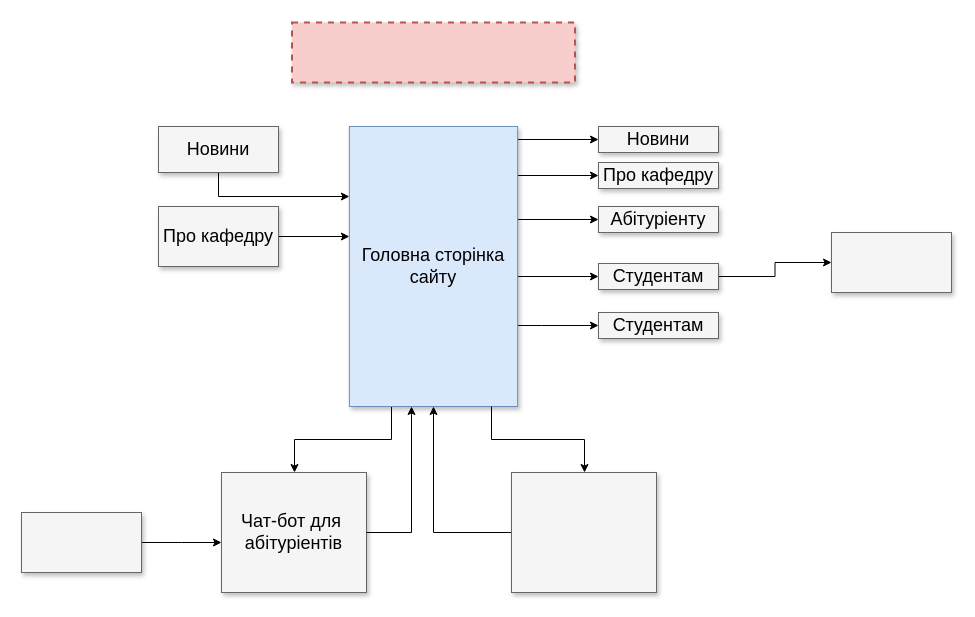
Image size: 975x617. Some labels were removed from this diagram. Each missing label, with the centre of its shape:
"Google-таблиця" goes at point 82,544.
"Сайт кафедри ІЕПФ" goes at point 434,53.
"Чат-бот для студентів" goes at point 584,534.
